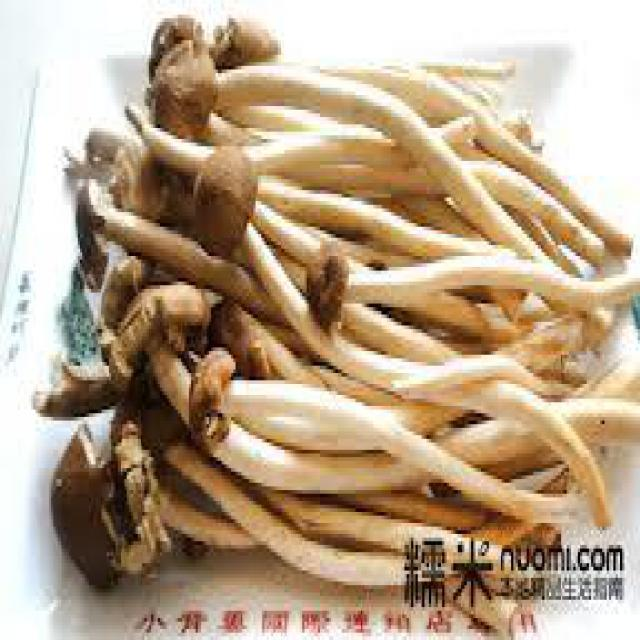Agrocybe aegerita: (41, 19, 640, 610)
